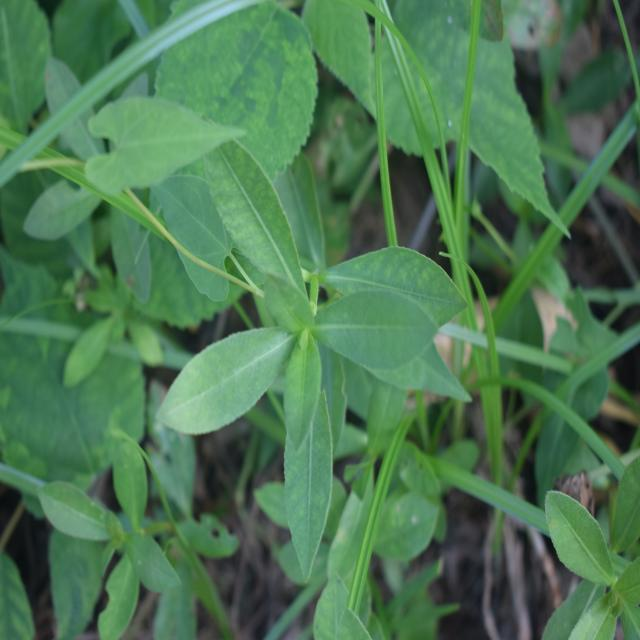Alligatorweed: (193, 152, 436, 497)
